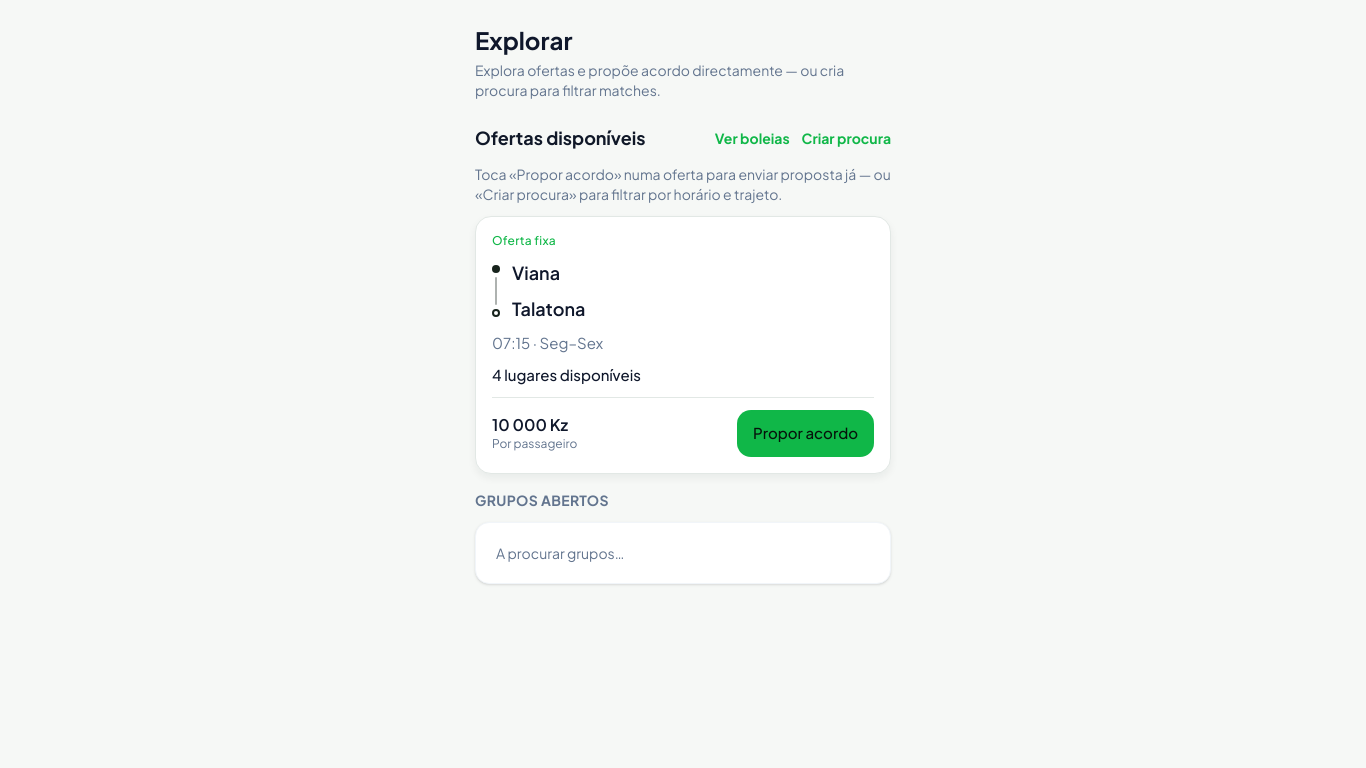
Test: PassengerDashboard — marketplace › explorar autenticado: o corpo abre o detalhe e não a proposta
The image size is (1366, 768).
Click the button with test id "opportunity-open": x=524, y=240 [492,233,874,385]
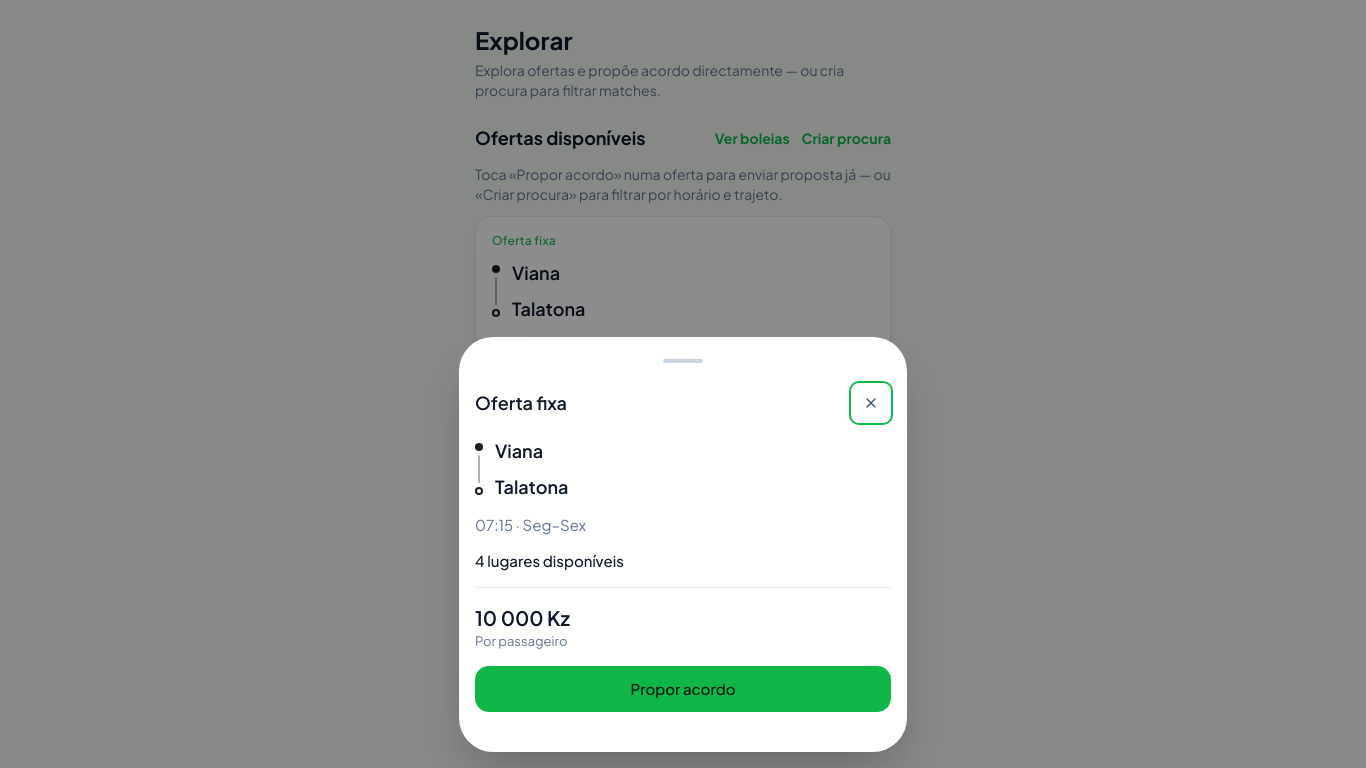
Result: the element with test id "opportunity-detail-sheet" is shown
Result: the button named "Fechar" is shown at [851,382,891,422]
